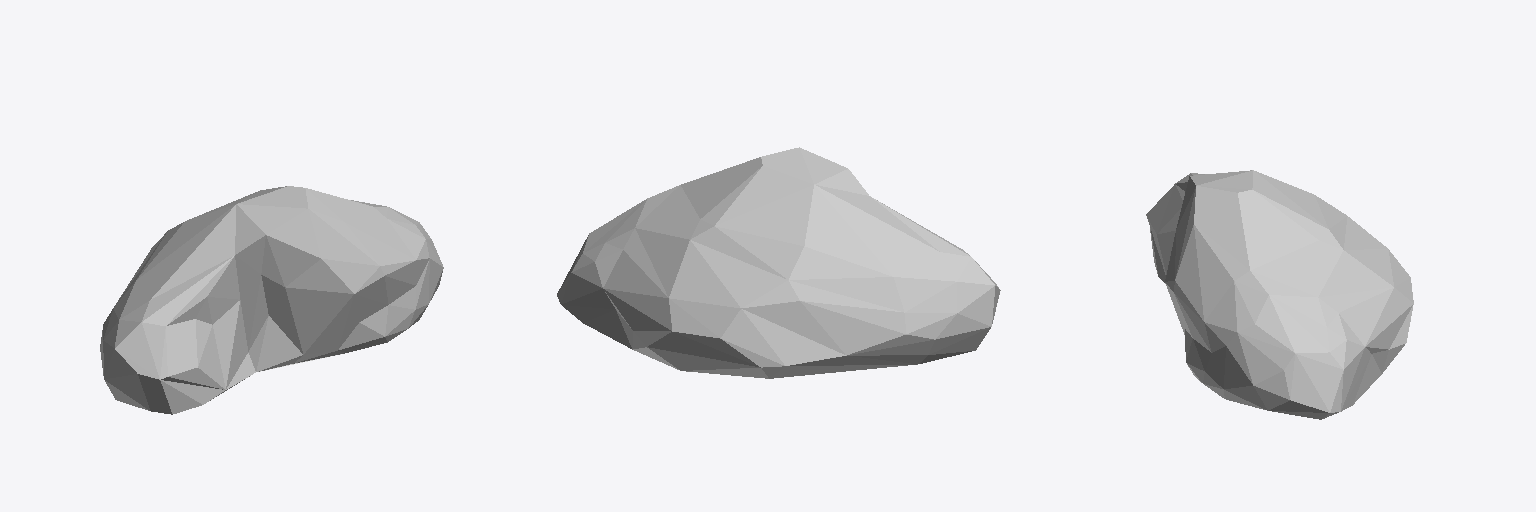
File: Forest_B_Rock_05.obj
3 renders of one model, left to right at view 1: azimuth 30°, elevation 25°; view 2: azimuth 150°, elevation 25°; view 3: azimuth 270°, elevation 25°, orthographic.
Parts seen in each view (by area): view 1: Forest_B_Rock_05; view 2: Forest_B_Rock_05; view 3: Forest_B_Rock_05.
Part boxes in pixels (bbox=[...]): Forest_B_Rock_05: bbox=[100, 186, 443, 414]; Forest_B_Rock_05: bbox=[557, 147, 1000, 378]; Forest_B_Rock_05: bbox=[1146, 170, 1413, 419].
Bounding box in the file's own units: 122 × 47.64 × 75.13.